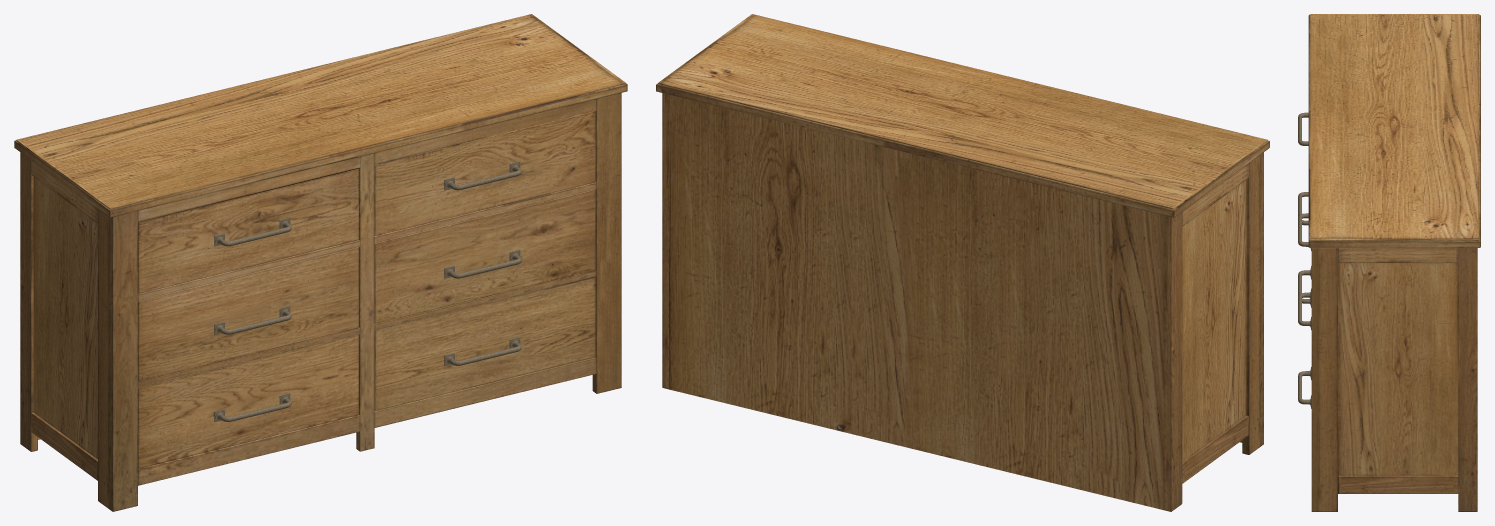
The model's file is abo_B071P9WJBT.glb.
3 renders of one model, left to right at view 1: azimuth 30°, elevation 25°; view 2: azimuth 150°, elevation 25°; view 3: azimuth 270°, elevation 25°, orthographic. The views are drawn at different scales.
Parts seen in each view (by area): view 1: RootNode; view 2: RootNode; view 3: RootNode.
Boxes of the visible parts, x1,y1,x2,y2 form: RootNode: (14,14,627,511); RootNode: (656,14,1269,511); RootNode: (1298,14,1480,511).
Size of the model in its own units: 1.66 by 0.932 by 0.5635.
1 material, 1 textured.
